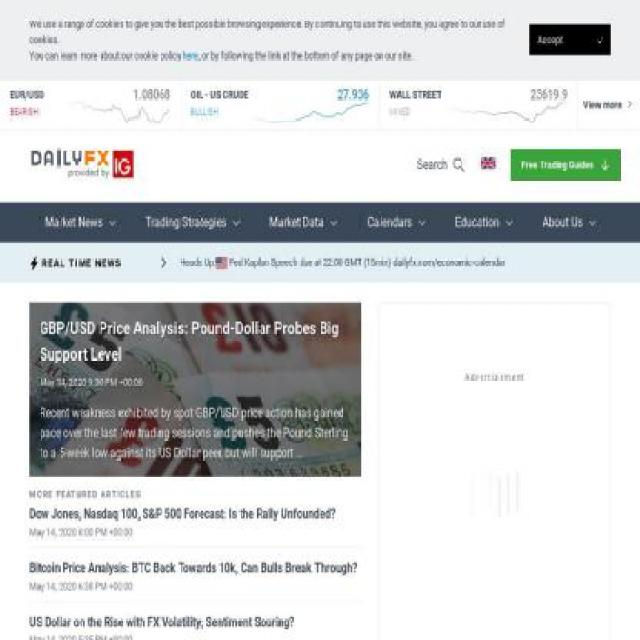button: (29, 302, 362, 476), (20, 242, 620, 282), (29, 503, 362, 548), (29, 557, 362, 601), (379, 79, 578, 130), (181, 79, 379, 130), (0, 78, 182, 131), (29, 611, 362, 638), (20, 138, 145, 190), (510, 148, 621, 180), (144, 206, 238, 240), (578, 80, 639, 131), (529, 23, 611, 54), (44, 206, 116, 240), (269, 206, 337, 240), (366, 206, 425, 240), (454, 206, 512, 240), (542, 206, 596, 240), (29, 488, 142, 502), (447, 138, 473, 190), (479, 154, 496, 174)
field: (400, 138, 448, 190)
